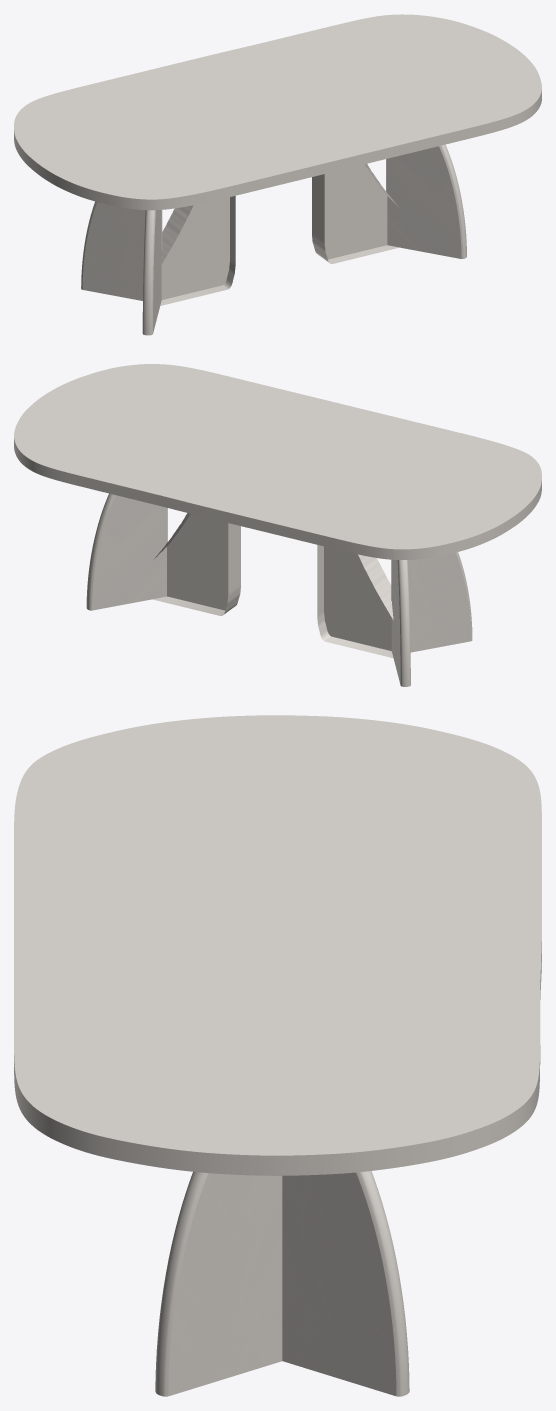
Rendered from pearlwhite_oval_standard_plane.glb.
The picture shows the model from 3 angles, top to bottom: view 1: azimuth 30°, elevation 25°; view 2: azimuth 150°, elevation 25°; view 3: azimuth 270°, elevation 25°; orthographic projection. The views are drawn at different scales.
Parts seen in each view (by area): view 1: standard_oval, plane_singleright2, plane_single1, plane_single2, plane_singleleft1, plane_singleright1; view 2: standard_oval, plane_singleleft2, plane_single1, plane_single2, plane_singleright1, plane_singleleft1; view 3: standard_oval, plane_singleleft2, plane_singleright2.
Part boxes in pixels (<box>): standard_oval: <box>14,14,541,210</box>; plane_singleright2: <box>386,144,466,258</box>; plane_single1: <box>160,196,235,305</box>; plane_single2: <box>312,164,399,263</box>; plane_singleleft1: <box>81,201,162,300</box>; plane_singleright1: <box>142,210,161,335</box>; standard_oval: <box>14,364,541,559</box>; plane_singleleft2: <box>86,493,167,610</box>; plane_single1: <box>317,545,393,658</box>; plane_single2: <box>152,513,240,615</box>; plane_singleright1: <box>391,552,472,652</box>; plane_singleleft1: <box>391,559,410,686</box>; standard_oval: <box>14,715,541,1175</box>; plane_singleleft2: <box>282,1171,409,1396</box>; plane_singleright2: <box>155,1171,282,1396</box>.
Size of the model in its own units: 7.5 by 2.5 by 3.8.
Materials: 1 (1 with a texture image).
